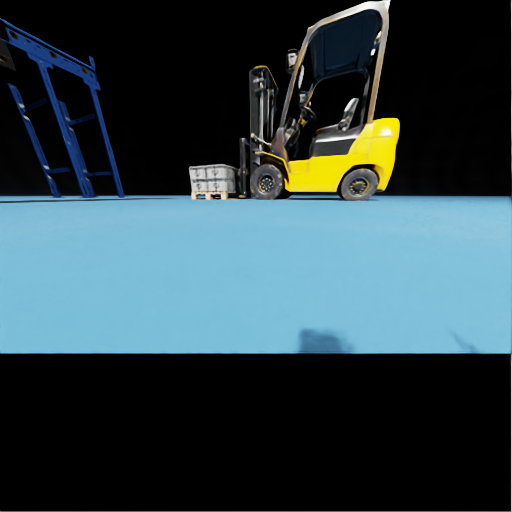transportation_area: (207, 178, 239, 191)
